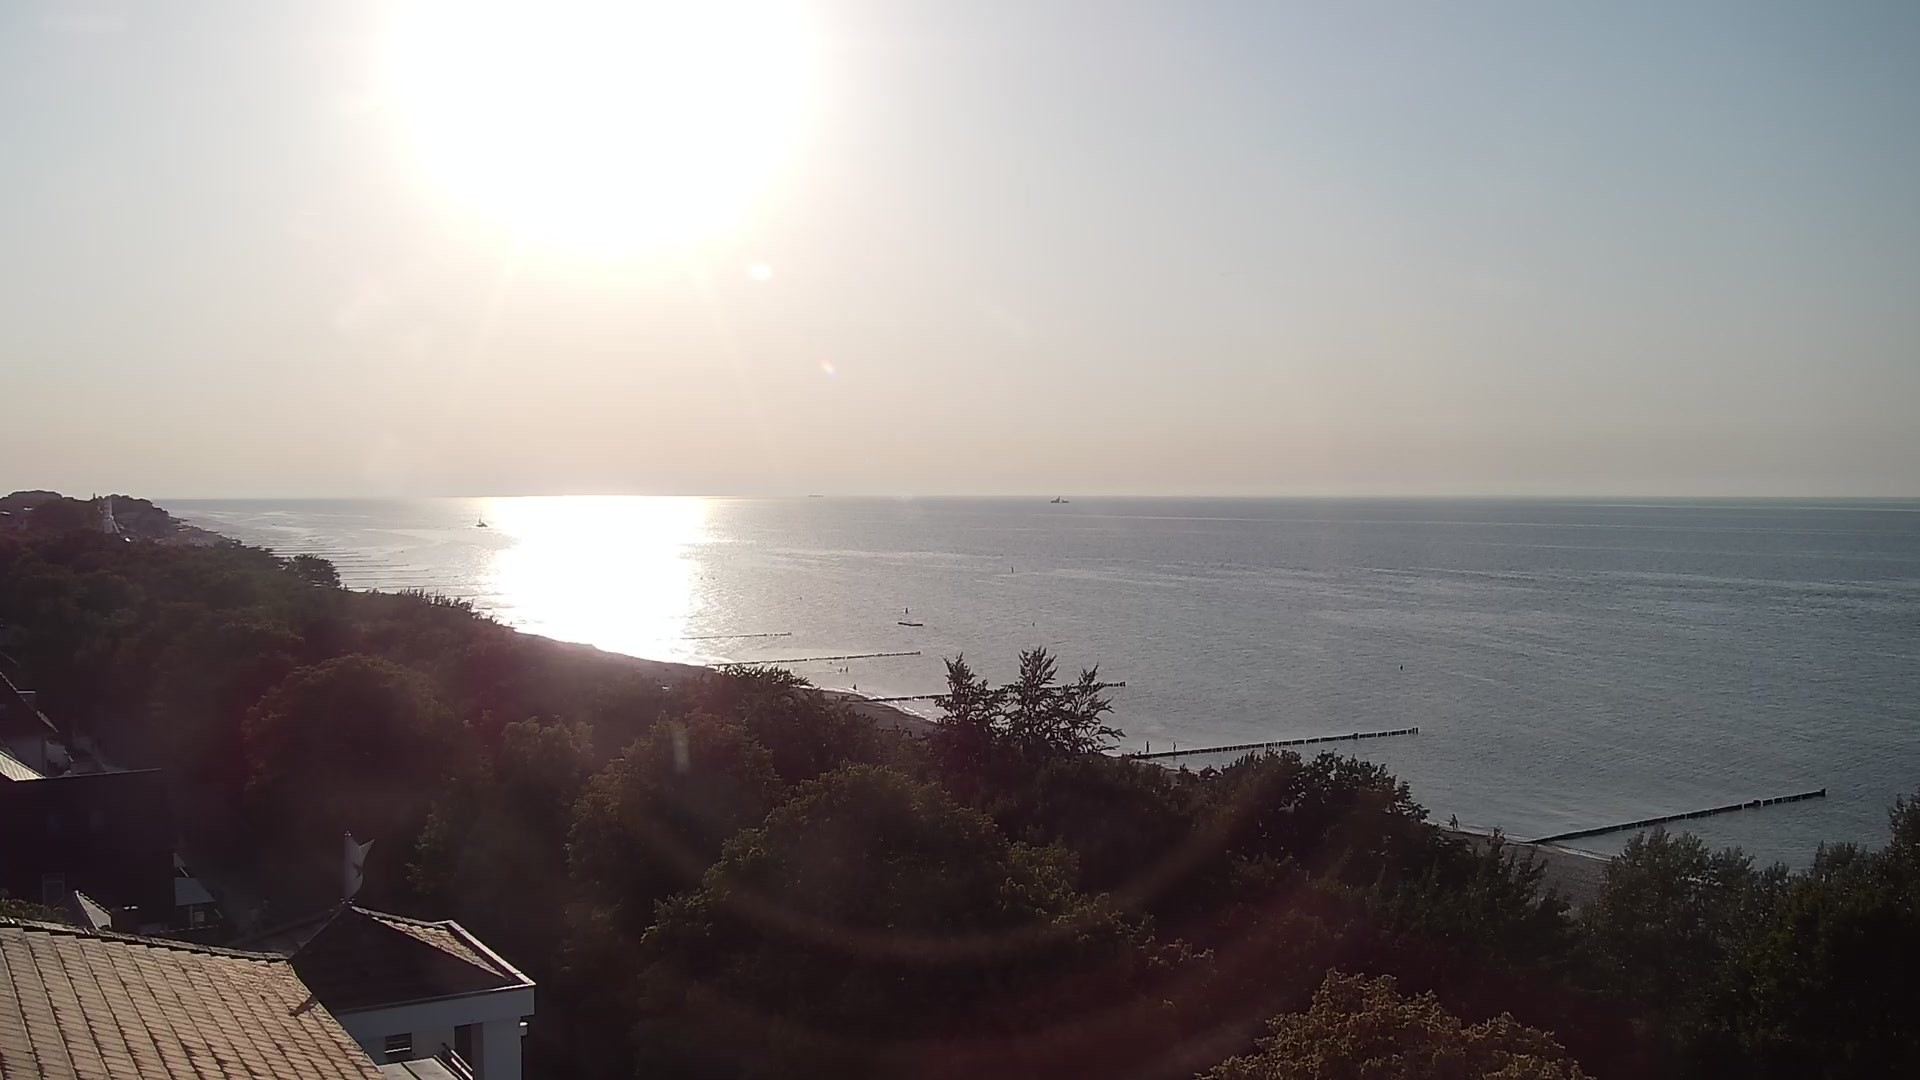human: (1449, 813, 1458, 831), (1145, 739, 1151, 753), (1171, 740, 1177, 751), (838, 667, 843, 674), (852, 683, 857, 690), (845, 665, 849, 673)
sea: (475, 510, 488, 527), (1050, 496, 1070, 504), (806, 491, 825, 497)
